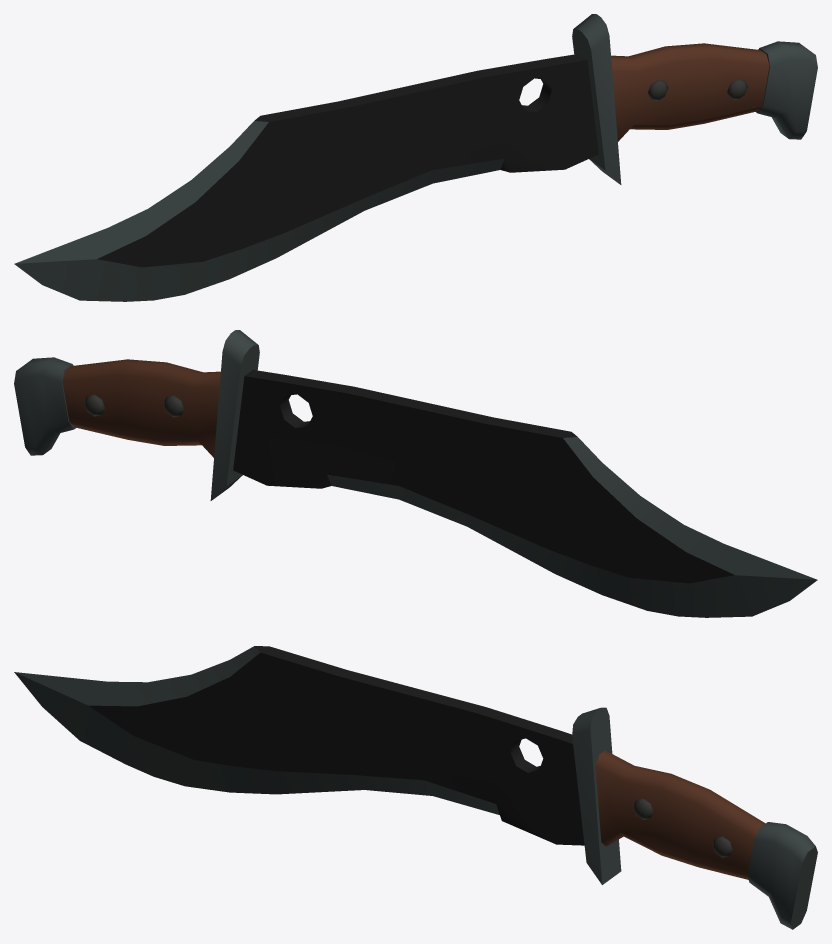
File: Knife.glb
3 renders of one model, top to bottom at view 1: azimuth 30°, elevation 25°; view 2: azimuth 150°, elevation 25°; view 3: azimuth 330°, elevation 25°, orthographic.
Visible parts, largest first — view 1: knife.001; view 2: knife.001; view 3: knife.001.
Boxes of the visible parts, x1,y1,x2,y2 form: knife.001: (14, 14, 817, 301); knife.001: (14, 330, 817, 617); knife.001: (14, 646, 817, 929).
Bounding box in the file's own units: 0.2673 × 0.057 × 0.0125.
Materials: 1 (1 with a texture image).
